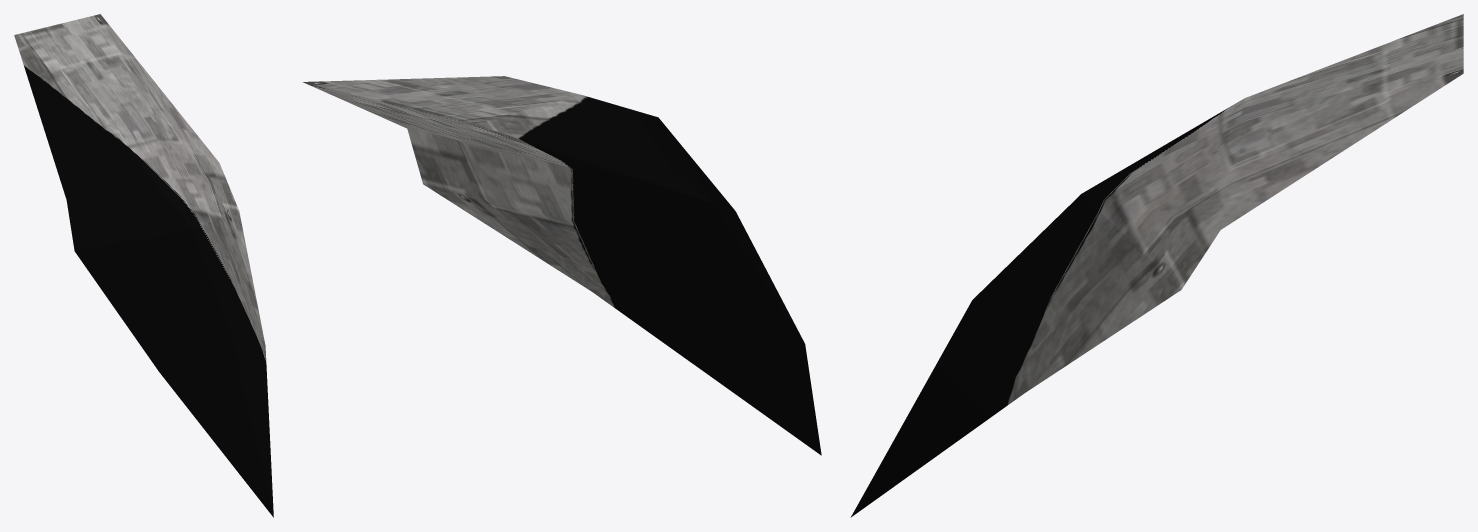
Rendered from wing_weak_close.fbx.
3 renders of one model, left to right at view 1: azimuth 30°, elevation 25°; view 2: azimuth 150°, elevation 25°; view 3: azimuth 270°, elevation 25°, orthographic. The views are drawn at different scales.
Visible parts, largest first — view 1: hane:polySurface1; view 2: hane:polySurface1; view 3: hane:polySurface1.
Boxes of the visible parts, x1,y1,x2,y2 form: hane:polySurface1: (14,14,273,517); hane:polySurface1: (303,76,821,455); hane:polySurface1: (850,14,1463,517).
Size of the model in its own units: 1.33 by 2.58 by 3.02.
Materials: 1 (1 with a texture image).
